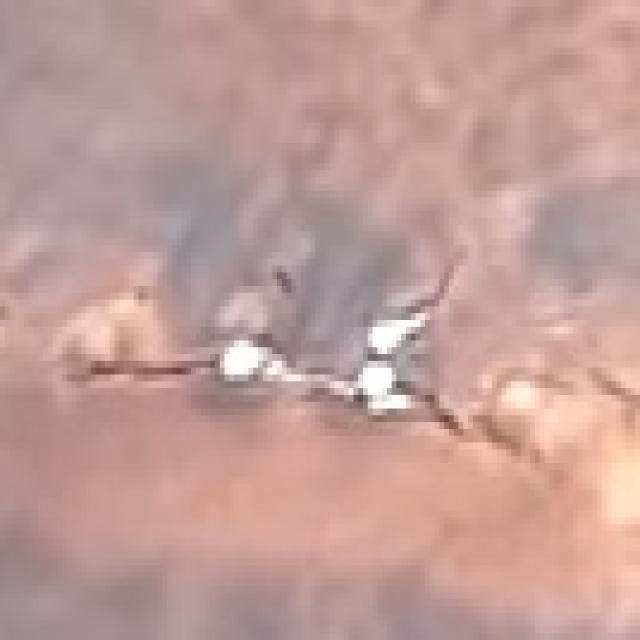crack: (73, 314, 274, 437)
